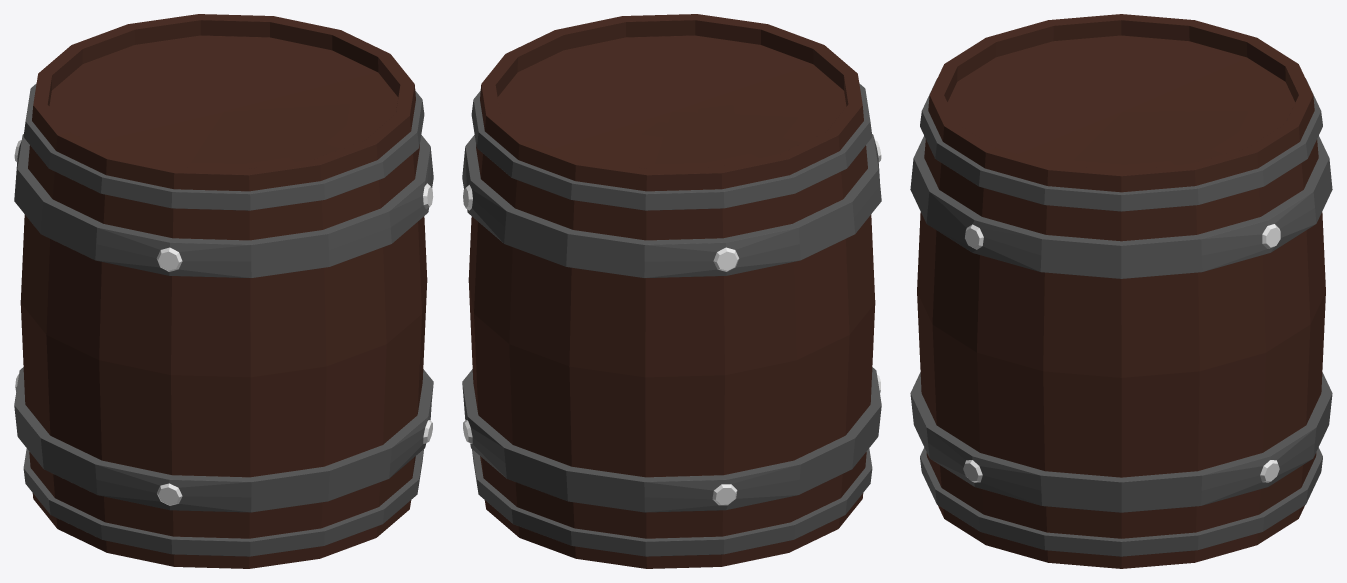
The model's file is LP_Barrel.fbx.
The picture shows the model from 3 angles, left to right: view 1: azimuth 30°, elevation 25°; view 2: azimuth 150°, elevation 25°; view 3: azimuth 270°, elevation 25°; orthographic projection.
Parts seen in each view (by area): view 1: LP_Barrel; view 2: LP_Barrel; view 3: LP_Barrel.
Boxes of the visible parts, x1,y1,x2,y2 form: LP_Barrel: [14, 14, 433, 568]; LP_Barrel: [462, 14, 881, 568]; LP_Barrel: [910, 14, 1332, 568].
Bounding box in the file's own units: 129 × 132 × 129.
